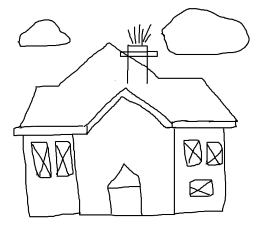closed_window: (31, 141, 52, 178), (54, 141, 74, 177), (189, 178, 214, 199), (184, 139, 202, 167), (206, 142, 222, 166)
clouds: (159, 5, 249, 56), (16, 17, 72, 48)
door: (100, 162, 148, 220)
roof: (14, 42, 241, 135)
smoking_chimney: (114, 21, 162, 85)
wall: (70, 86, 180, 218)
